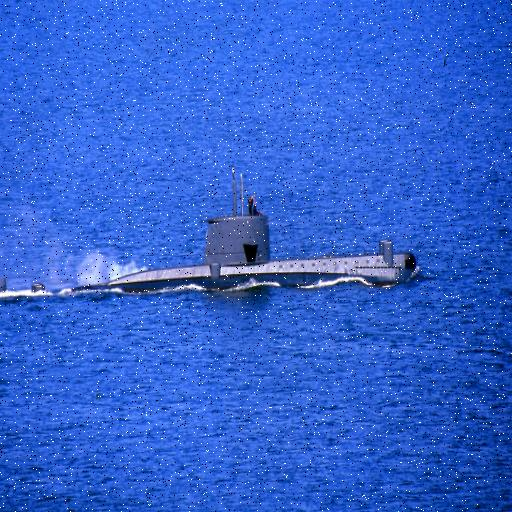submarine: (1, 202, 418, 283)
